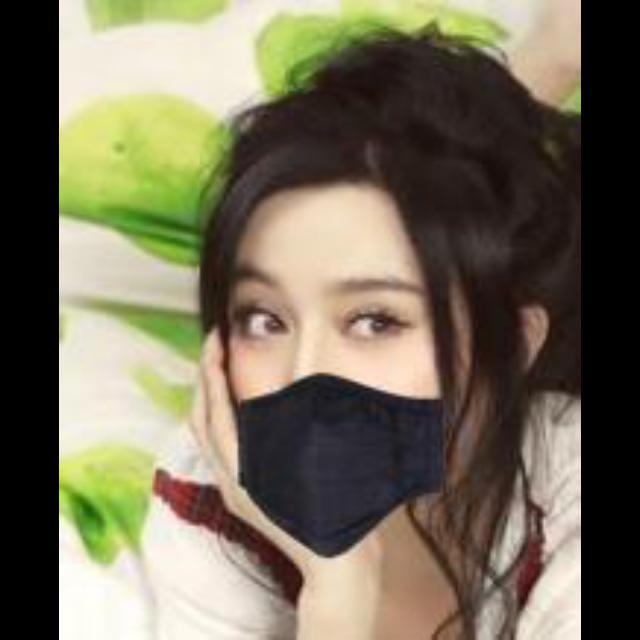suspicion: (142, 144, 568, 548)
